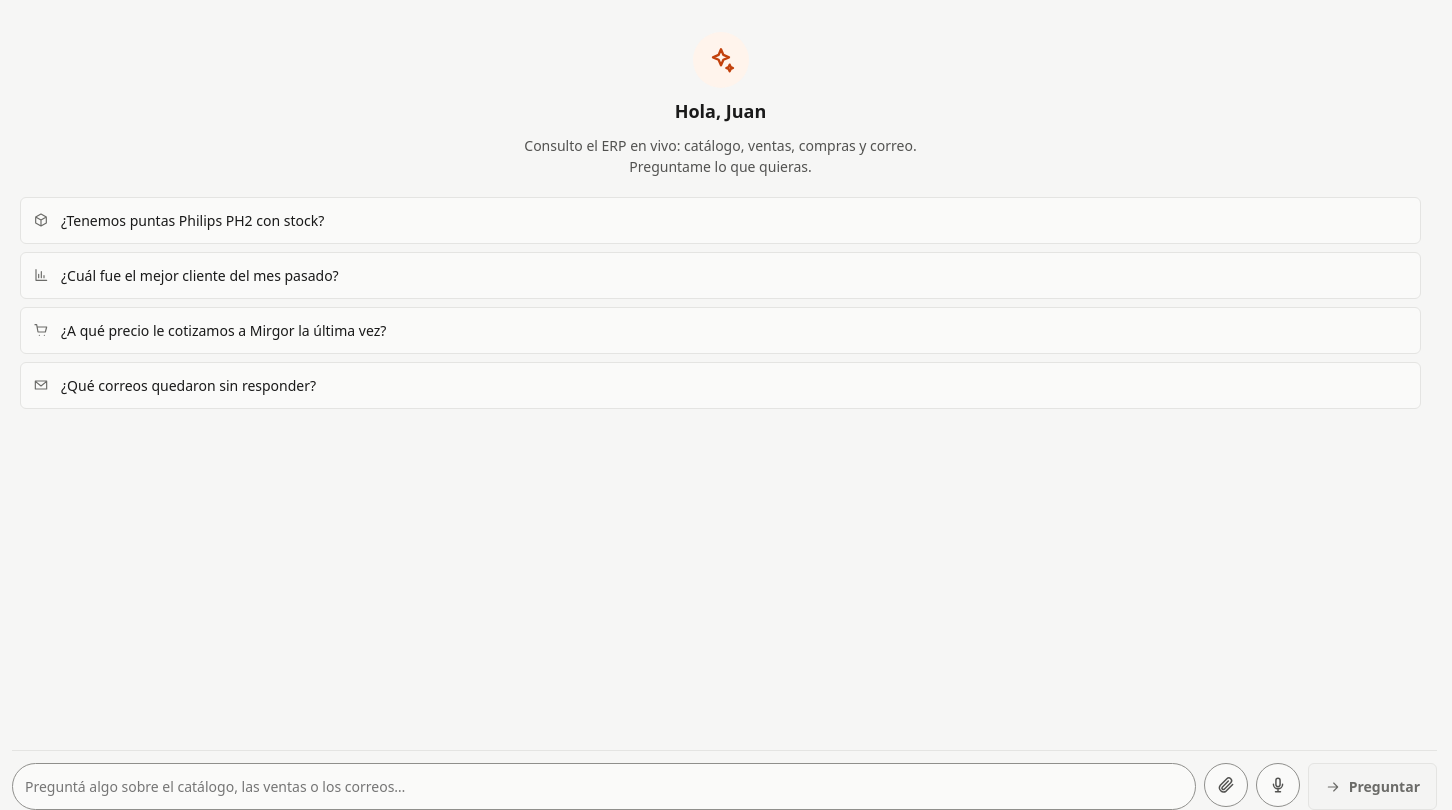
El chat del asistente › avisa cuando la consulta se cortó por llegar a su tope
The image size is (1452, 810).
Type "algo largo" into the field named "Tu pregunta" at (604, 786), box [12,763,1196,809]
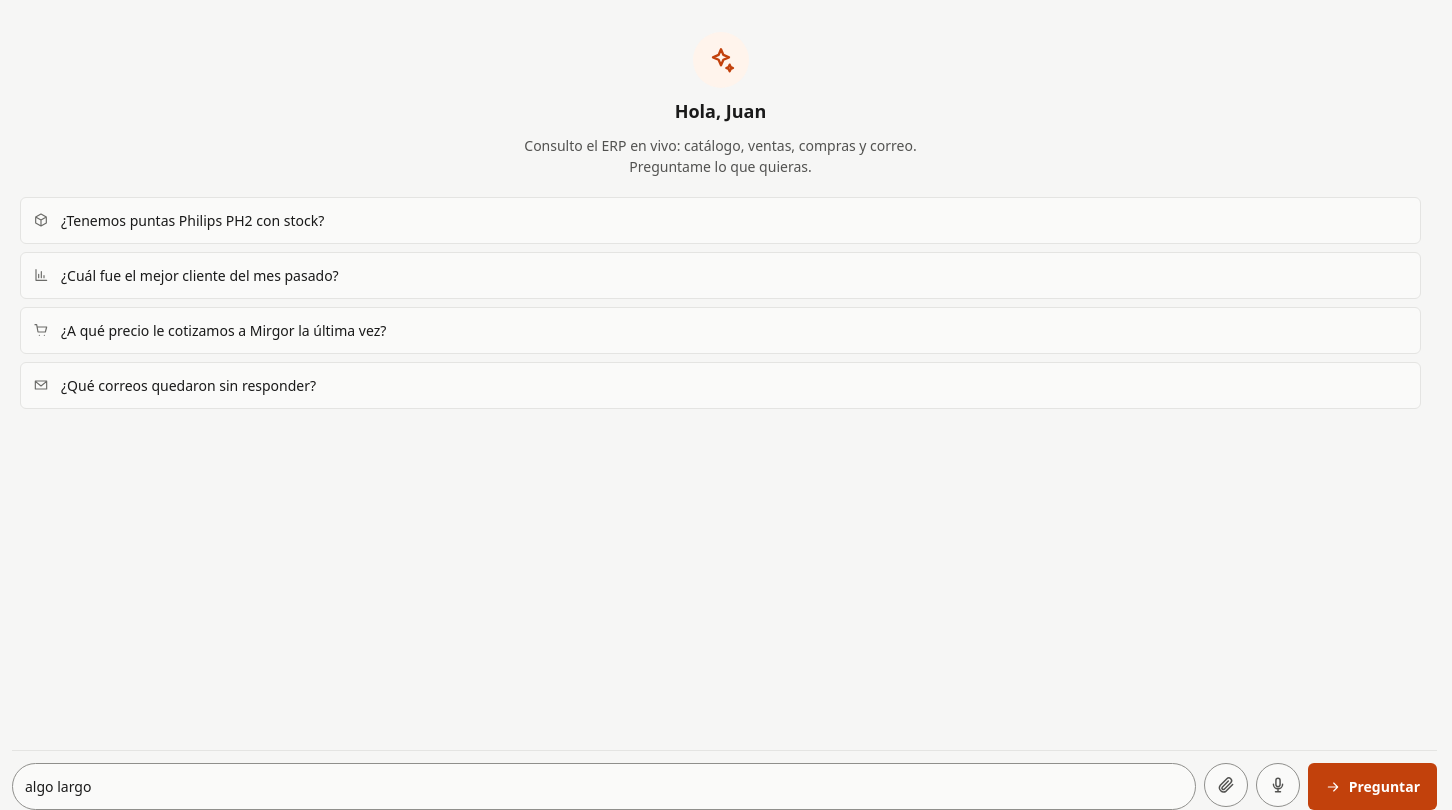
Click the button "Preguntar" at (1372, 786), box [1308,763,1437,809]
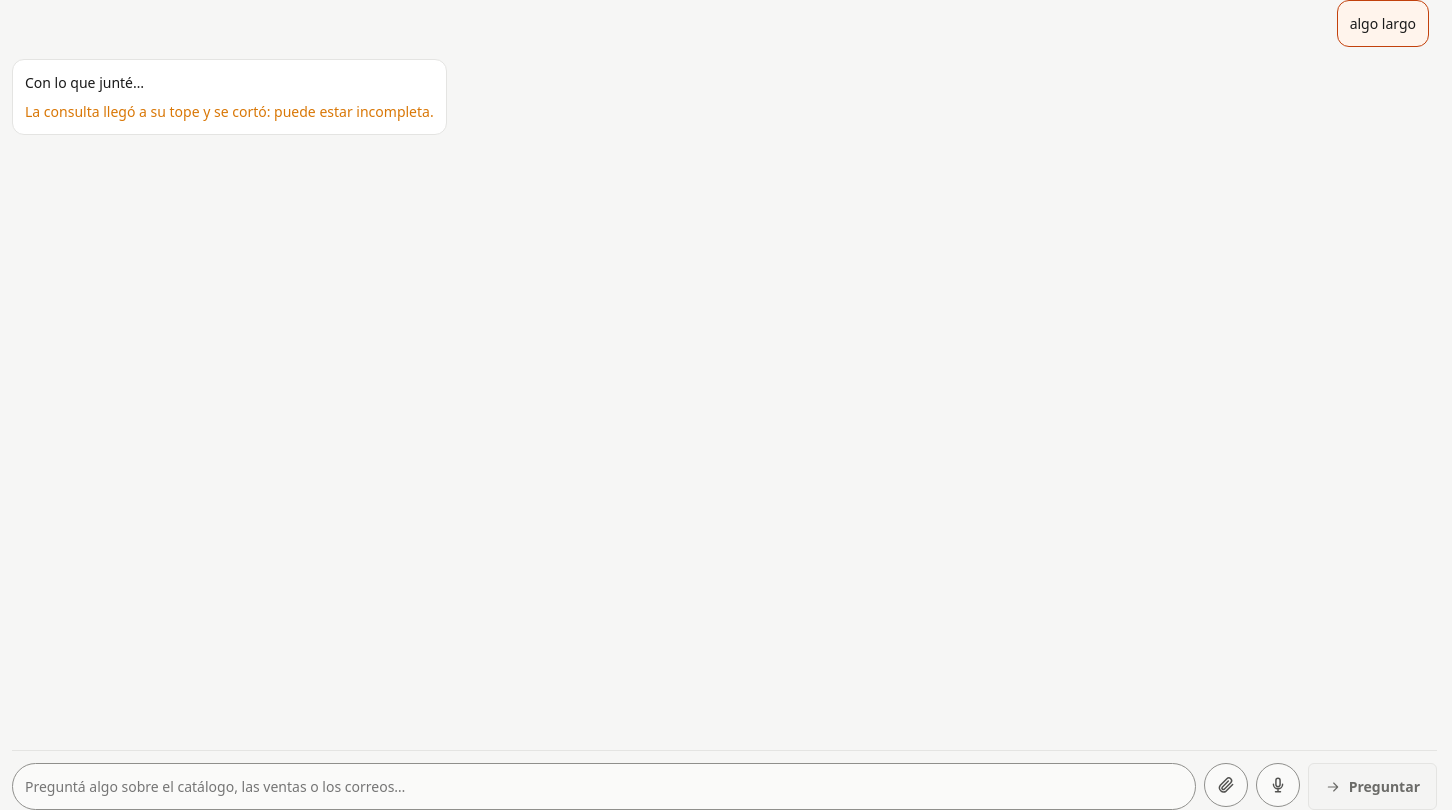
Expected: the text "llegó a su tope" is shown, [25,102,434,121]
